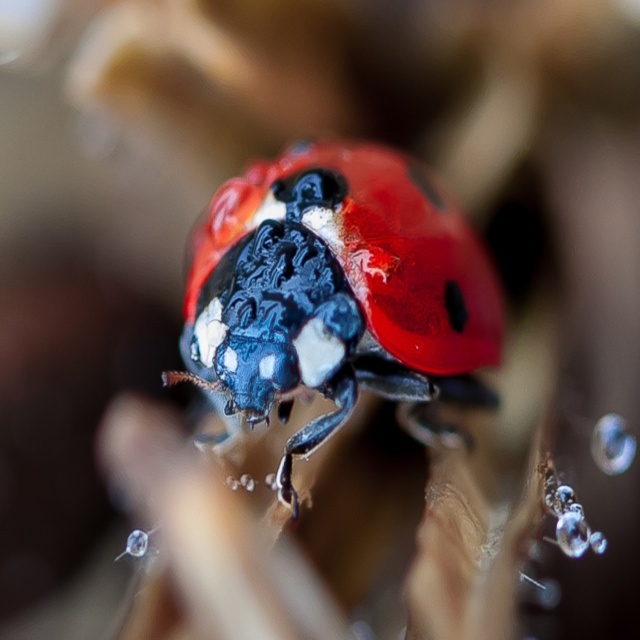Ladybug: (162, 137, 509, 527)
